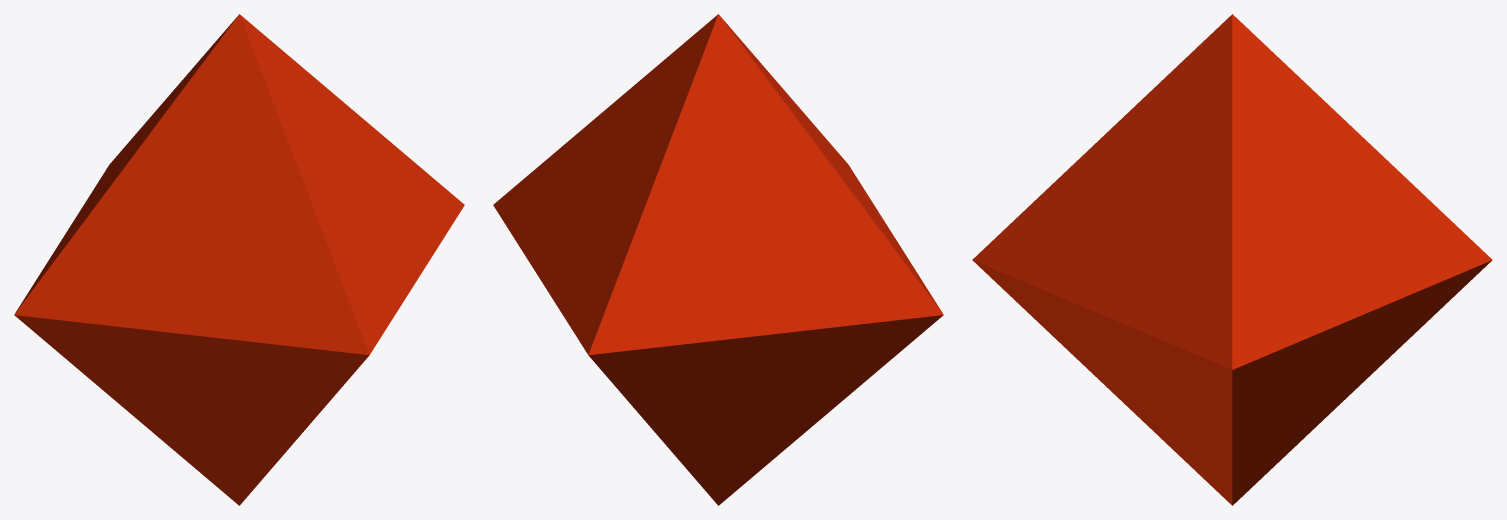
File: PacDot.fbx
The picture shows the model from 3 angles, left to right: view 1: azimuth 30°, elevation 25°; view 2: azimuth 150°, elevation 25°; view 3: azimuth 270°, elevation 25°; orthographic projection.
Parts seen in each view (by area): view 1: PacDot; view 2: PacDot; view 3: PacDot.
Part boxes in pixels (<box>): PacDot: <box>14,14,464,505</box>; PacDot: <box>493,14,943,505</box>; PacDot: <box>972,14,1492,505</box>.
Size of the model in its own units: 0.4243 by 0.4424 by 0.4243.
